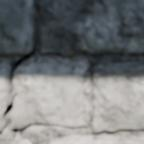brick: (40, 0, 143, 55), (92, 63, 143, 132), (0, 0, 33, 54), (45, 136, 143, 143), (1, 142, 30, 143)
broken_brick: (12, 62, 87, 129), (0, 65, 8, 115), (0, 122, 2, 133)
crack: (0, 2, 37, 141)
